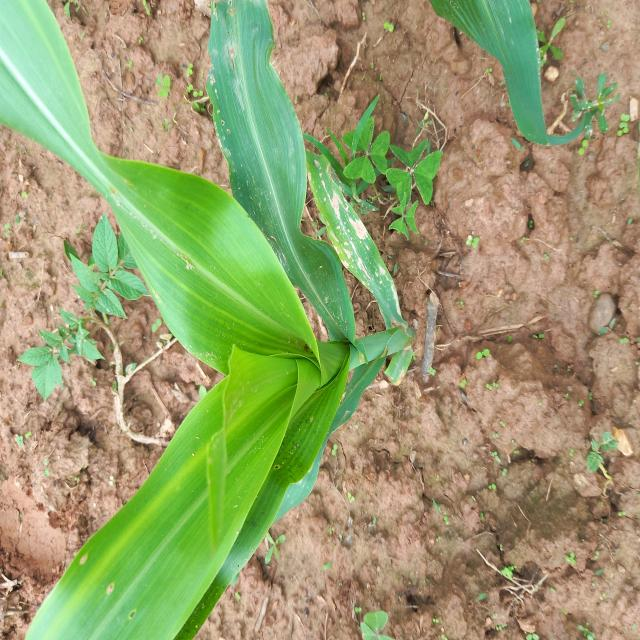maize: (0, 0, 427, 640), (419, 0, 580, 151)
weed: (309, 79, 447, 242), (43, 198, 148, 316), (4, 285, 117, 386), (564, 45, 618, 135), (575, 411, 634, 476)
